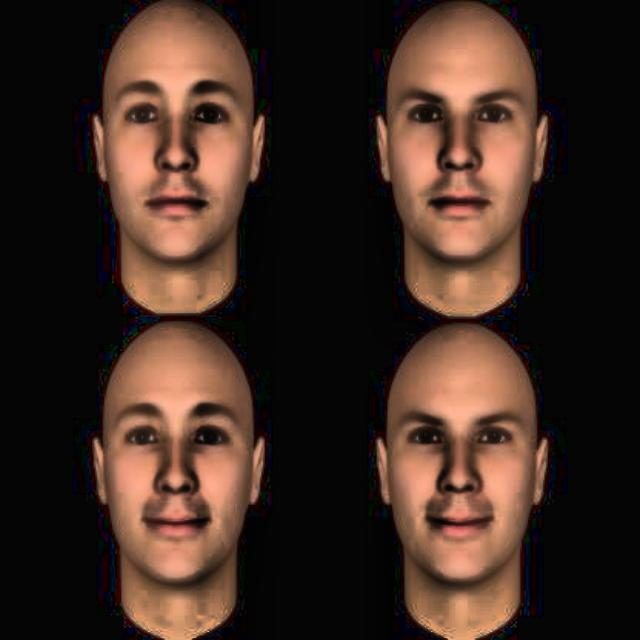happy: (379, 332, 549, 585), (99, 336, 257, 585)
neutral: (102, 22, 269, 262), (388, 5, 532, 254)
